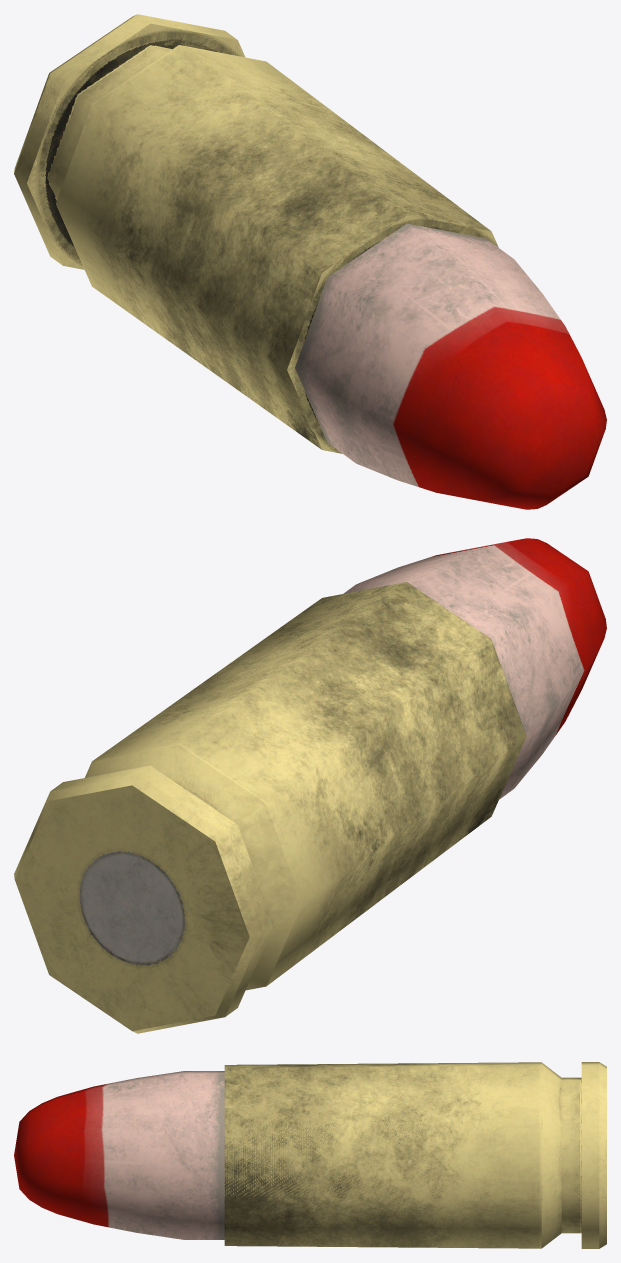
Rendered from 9mm_round_object (merge).fbx.
The picture shows the model from 3 angles, top to bottom: view 1: azimuth 30°, elevation 25°; view 2: azimuth 150°, elevation 25°; view 3: azimuth 270°, elevation 25°; orthographic projection. The views are drawn at different scales.
Visible parts, largest first — view 1: case, tracer; view 2: case, tracer; view 3: case, tracer.
Part boxes in pixels (x1=…): case: x1=14, y1=14, x2=498, y2=453; tracer: x1=295, y1=217, x2=606, y2=509; case: x1=14, y1=582, x2=526, y2=1033; tracer: x1=343, y1=538, x2=606, y2=799; case: x1=224, y1=1062, x2=606, y2=1248; tracer: x1=14, y1=1071, x2=541, y2=1239.
Bounding box in the file's own units: 0.00996 × 0.00996 × 0.0297.
